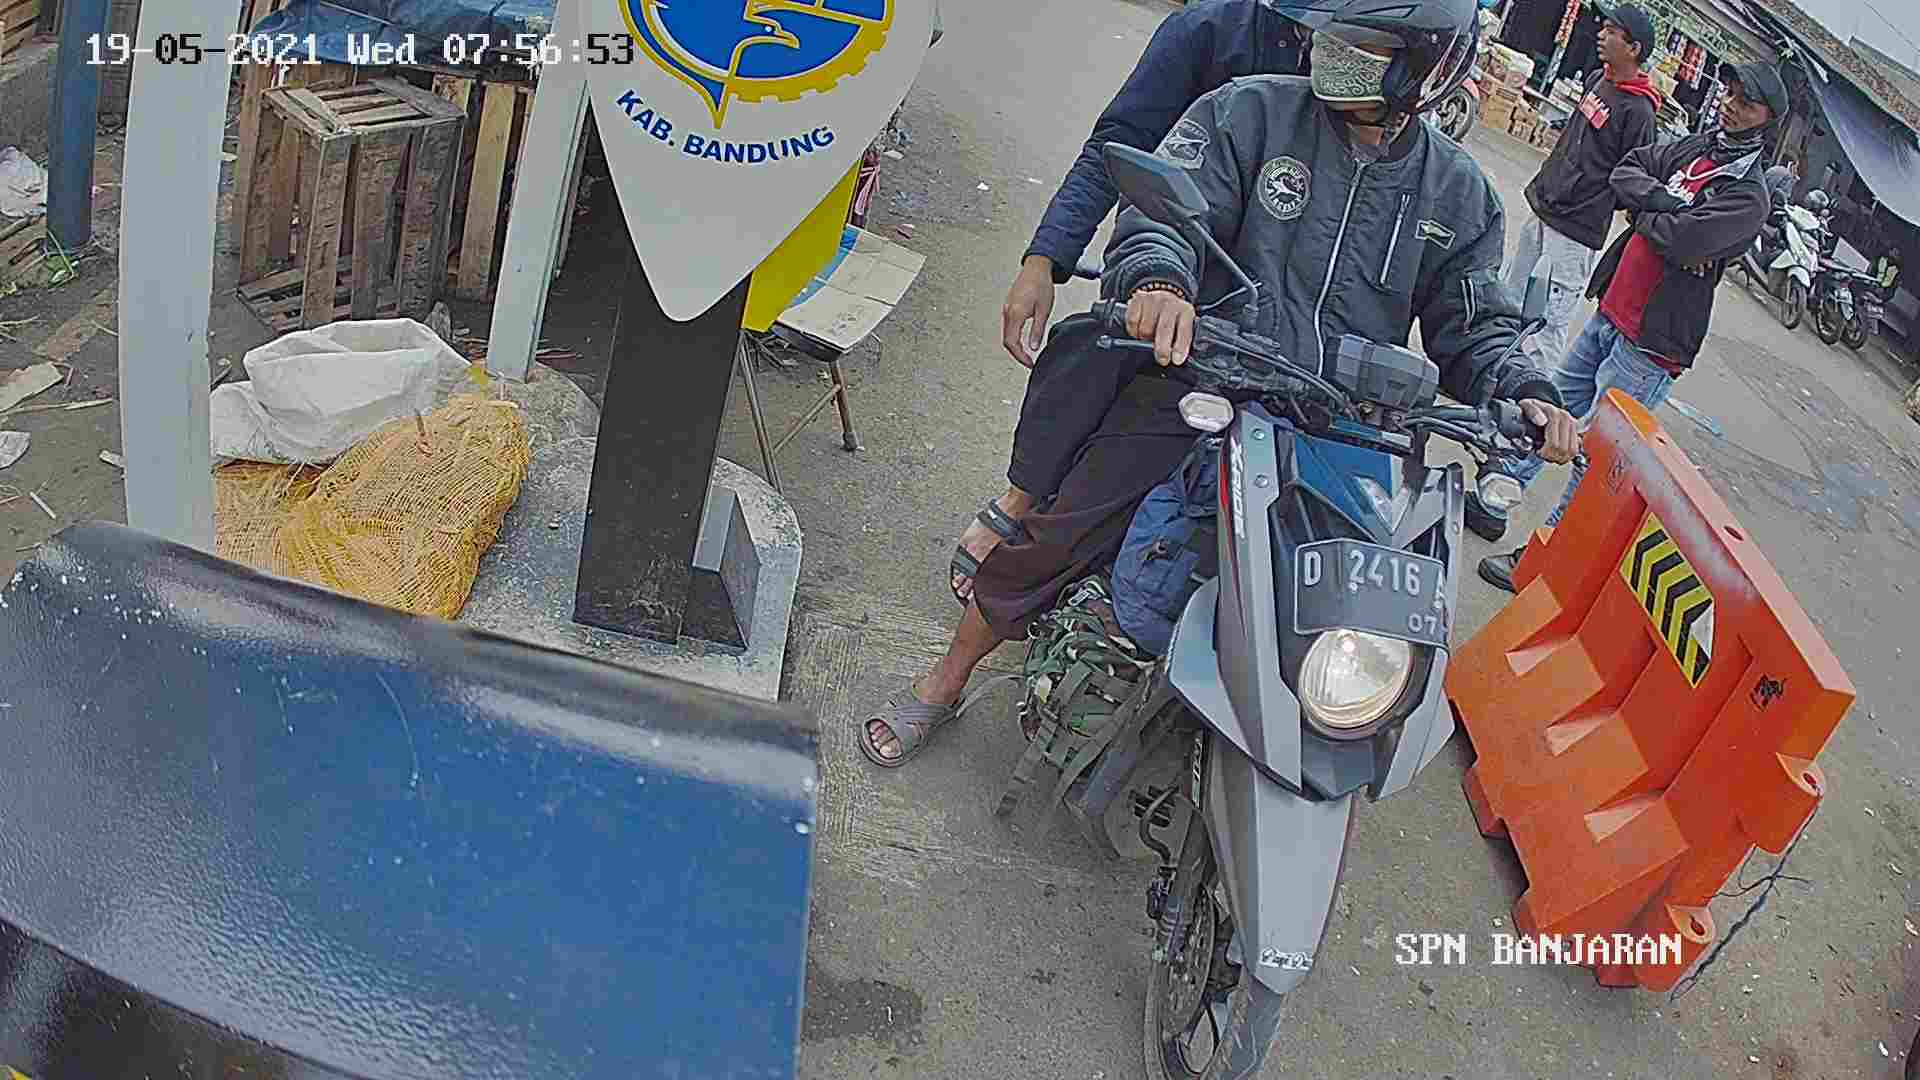motor: (1046, 282, 1484, 1069)
